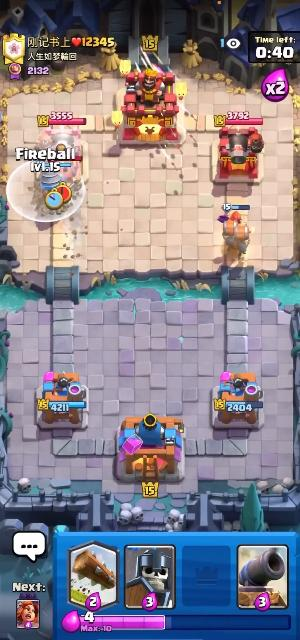ally_melee: (219, 204, 253, 259)
